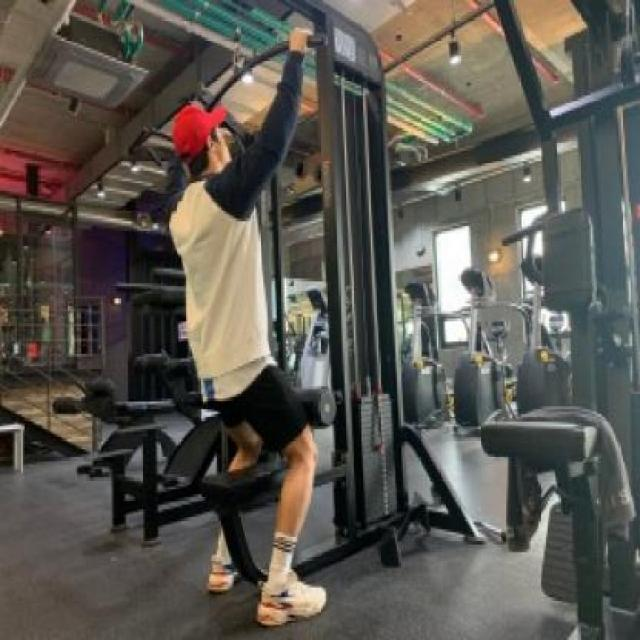Lat Pull Down: (74, 7, 491, 640)
